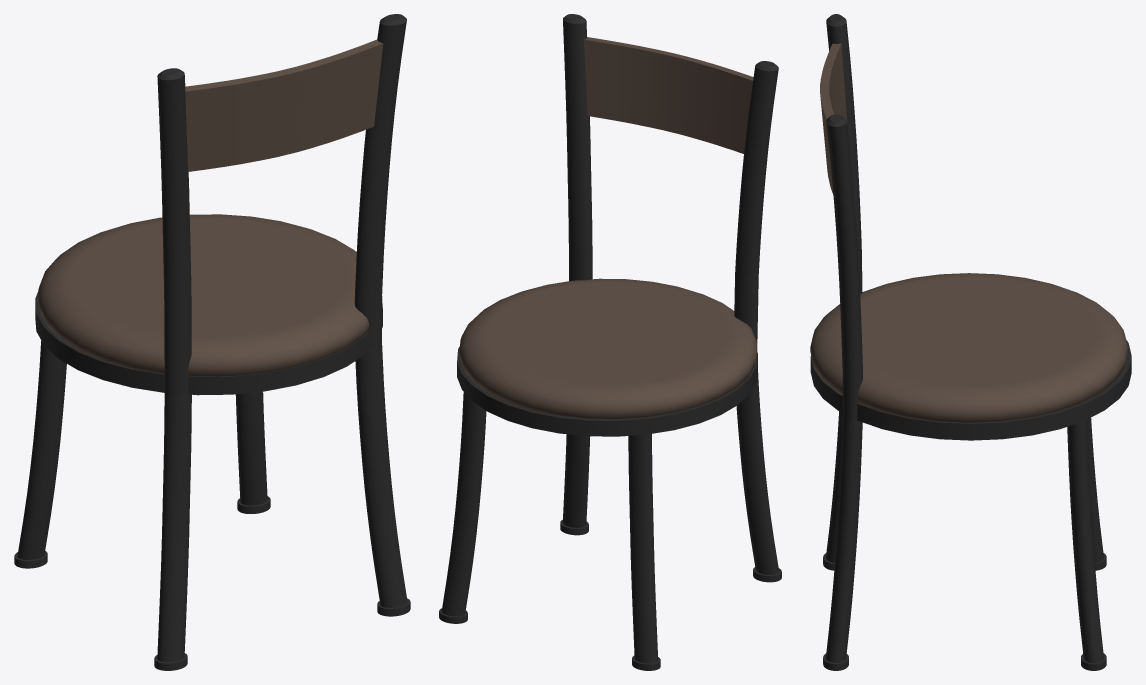
The model's file is Chaise4_10.fbx.
3 renders of one model, left to right at view 1: azimuth 30°, elevation 25°; view 2: azimuth 150°, elevation 25°; view 3: azimuth 270°, elevation 25°, orthographic. The views are drawn at different scales.
Parts seen in each view (by area): view 1: pCylinder1681, pCube2685, pCylinder1674, pCylinder1675, pCylinder1678, pCylinder1677, pCylinder1680, pCylinder1673, pCylinder1676; view 2: pCylinder1681, pCube2685, pCylinder1674, pCylinder1675, pCylinder1680, pCylinder1673, pCylinder1676, pCylinder1678, pCylinder1677; view 3: pCylinder1681, pCylinder1675, pCylinder1680, pCylinder1677, pCylinder1676, pCylinder1674, pCube2685, pCylinder1678, pCylinder1673.
Boxes of the visible parts, box(x1,y1,x2,y2) form: pCylinder1681: box(38, 214, 382, 376); pCube2685: box(185, 39, 383, 171); pCylinder1674: box(157, 68, 191, 395); pCylinder1675: box(354, 14, 406, 349); pCylinder1678: box(154, 393, 191, 670); pCylinder1677: box(355, 344, 410, 616); pCylinder1680: box(35, 291, 382, 395); pCylinder1673: box(14, 340, 66, 568); pCylinder1676: box(235, 391, 270, 513); pCylinder1681: box(459, 278, 757, 418); pCube2685: box(584, 37, 753, 153); pCylinder1674: box(734, 61, 778, 343); pCylinder1675: box(563, 14, 592, 281); pCylinder1680: box(457, 346, 757, 436); pCylinder1673: box(628, 434, 660, 670); pCylinder1676: box(439, 392, 486, 623); pCylinder1678: box(736, 370, 781, 582); pCylinder1677: box(560, 434, 590, 535); pCylinder1681: box(810, 273, 1127, 422); pCylinder1675: box(826, 114, 862, 419); pCylinder1680: box(810, 340, 1131, 440); pCylinder1677: box(823, 416, 862, 670); pCylinder1676: box(1067, 420, 1106, 670); pCylinder1674: box(826, 14, 862, 294); pCube2685: box(820, 43, 847, 194); pCylinder1678: box(823, 411, 842, 570); pCylinder1673: box(1087, 417, 1106, 570).
Bounding box in the file's own units: 44.91 × 84.31 × 44.99.
